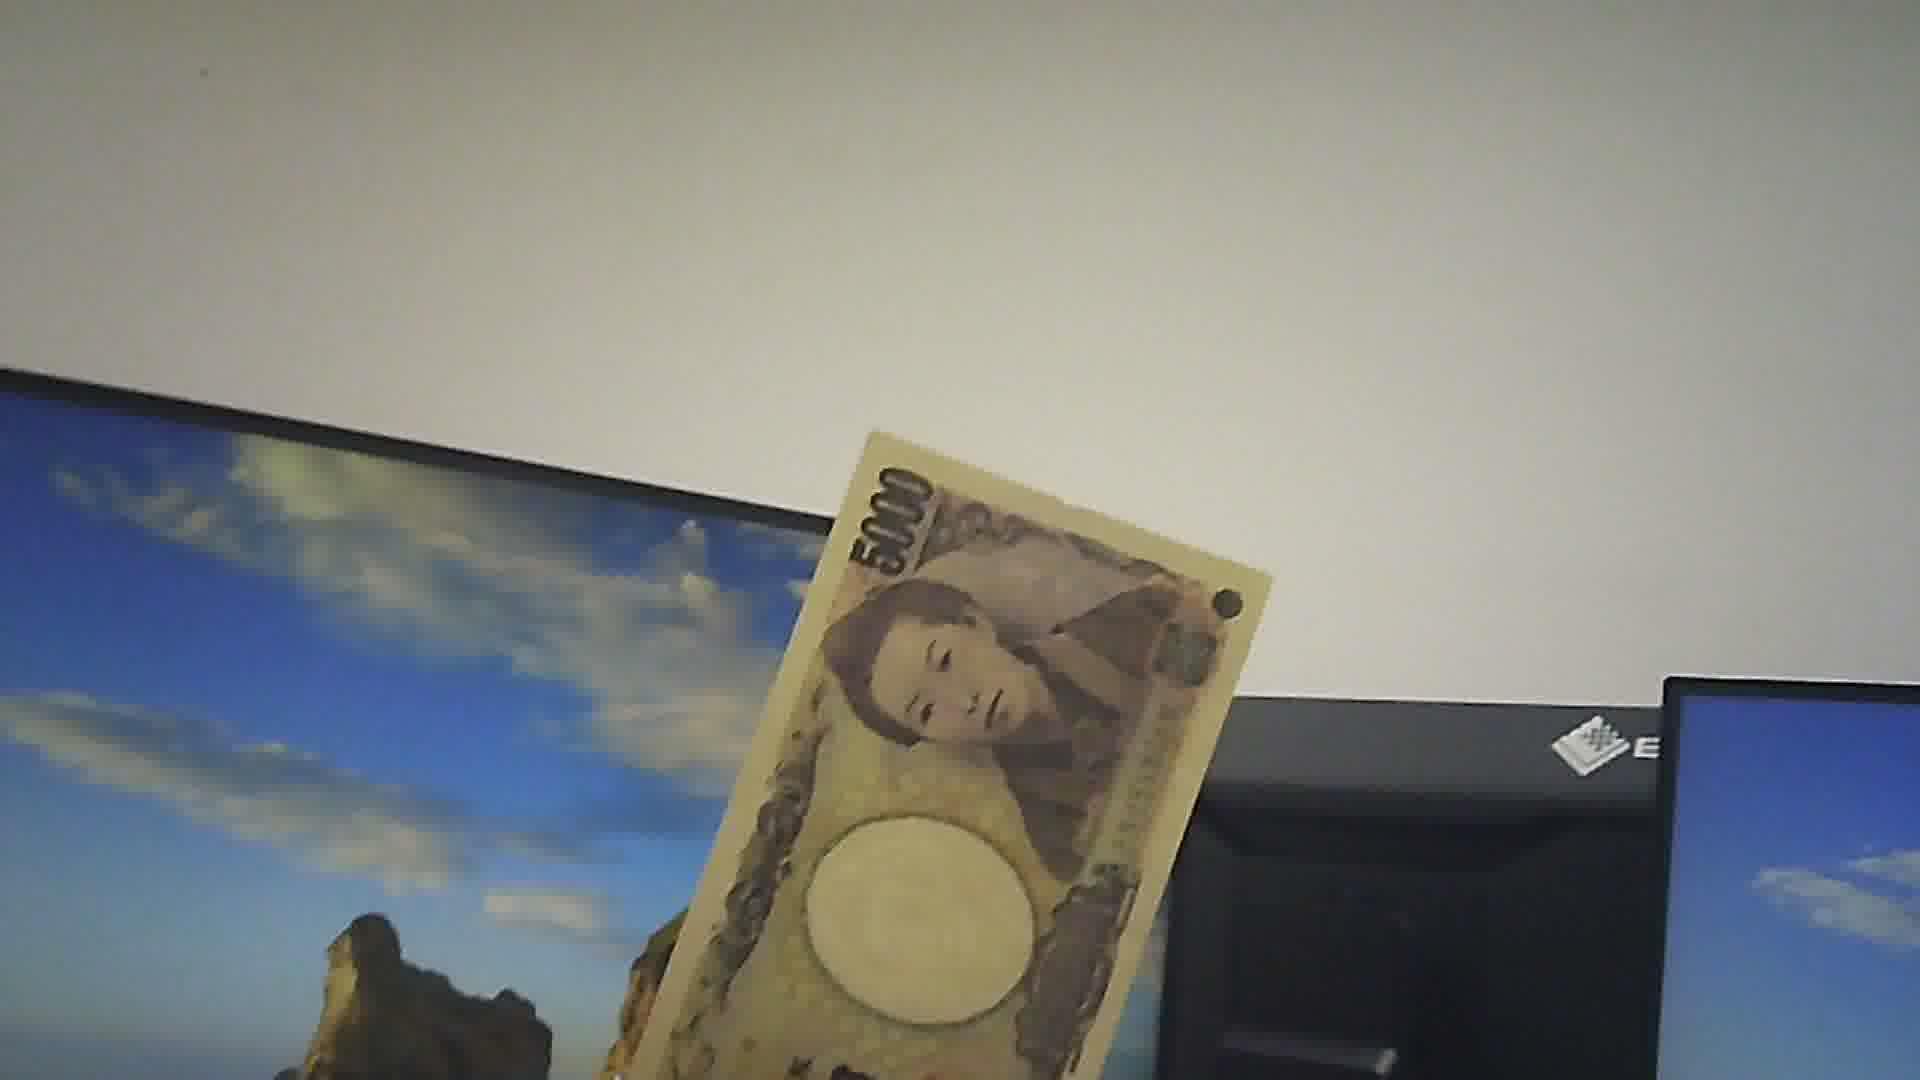5,000 Yen: (624, 418, 1236, 1079)
